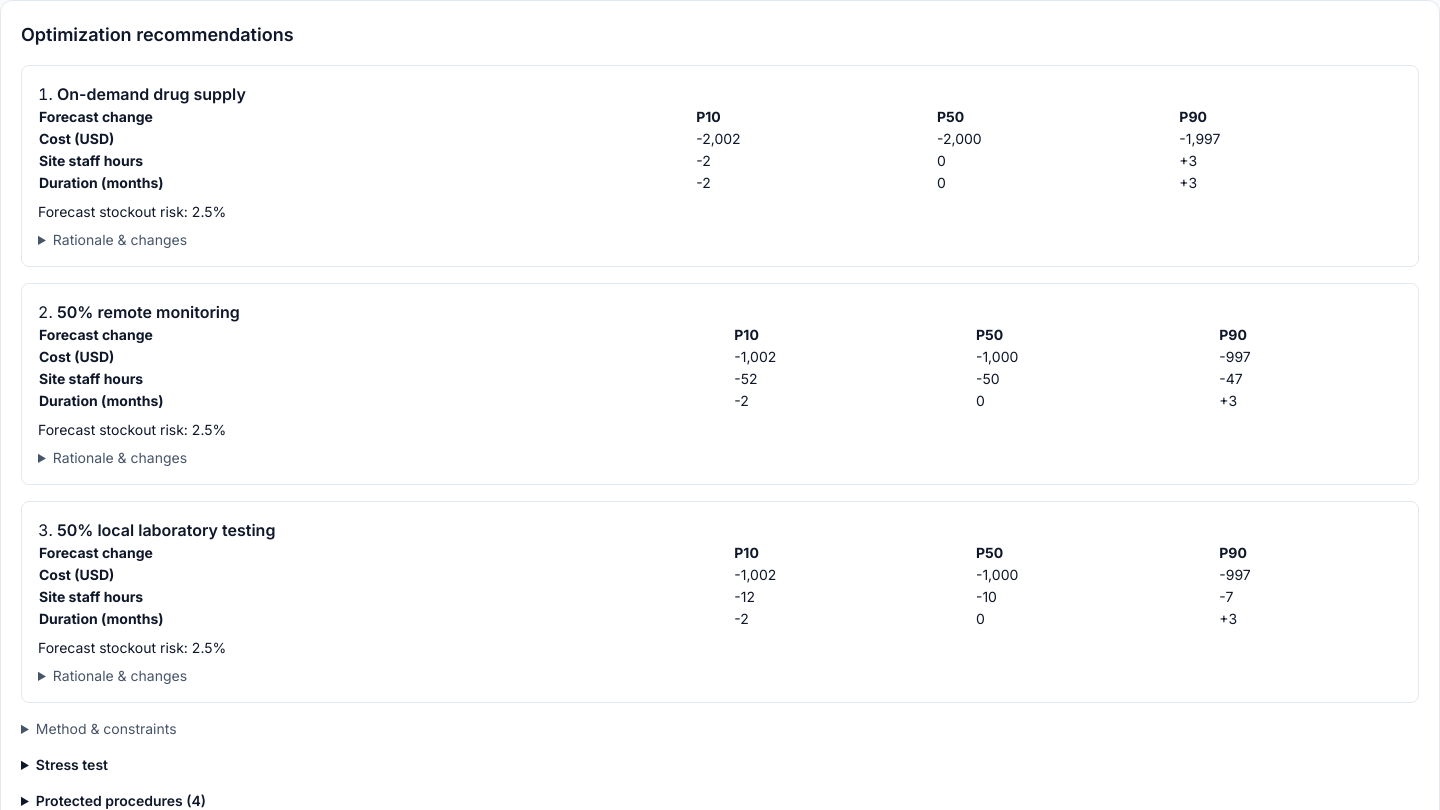
Test: NextLever › states the ranking baseline, seed and draws separately from the formal scenario draws
Click the heading "Method & constraints" at (106, 728), box [36,720,177,737]
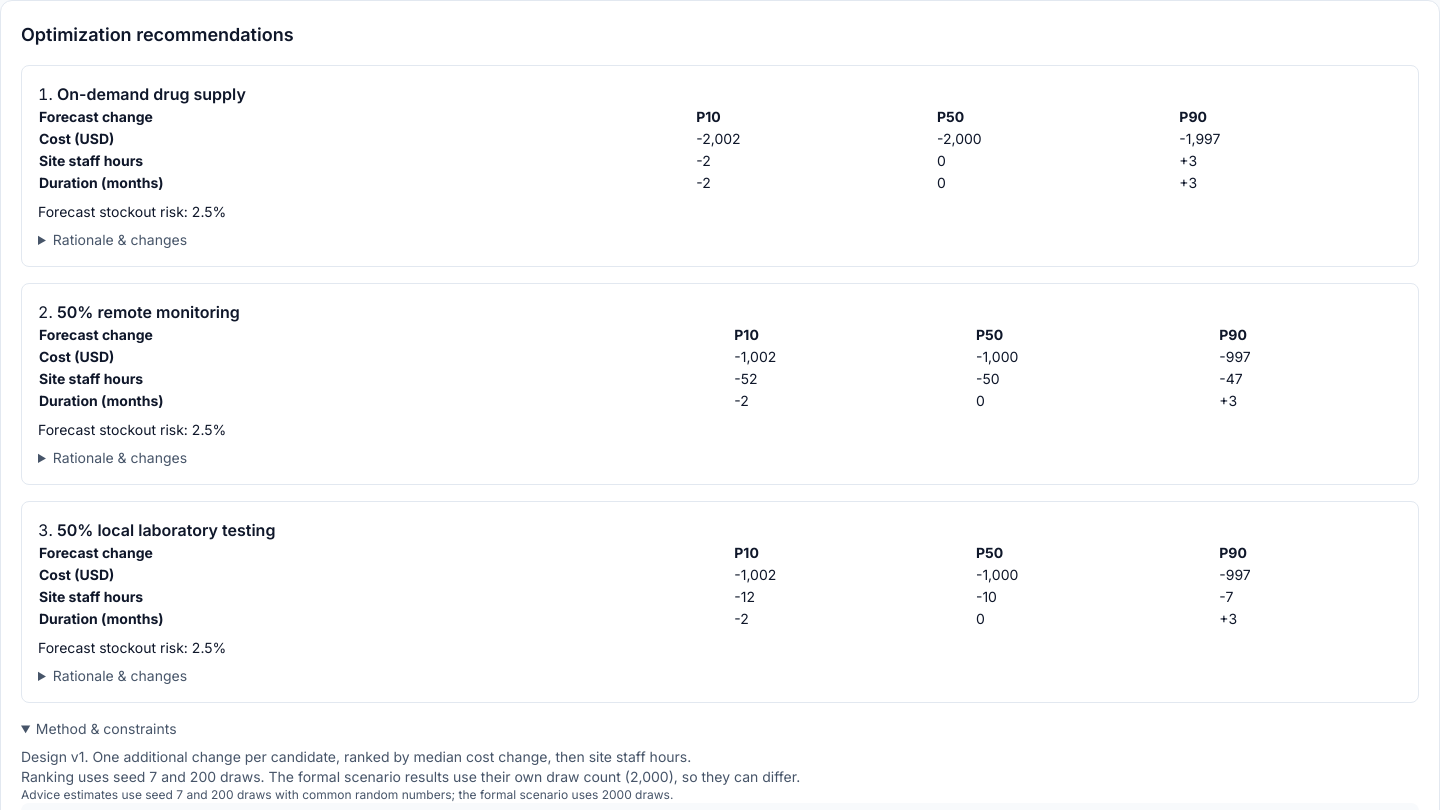
Expected: the text "Ranking uses seed 7 and 200 draws. The formal scenario results use their own draw count (2,000), so they can differ." is shown, [21,768,800,785]
Expected: the text "Advice estimates use seed 7 and 200 draws with common random numbers; the formal scenario uses 2000 draws." is shown, [21,787,673,802]
Expected: the text "One additional change per candidate" shows "ranked by median cost change, then site staff hours", [84,748,691,765]
